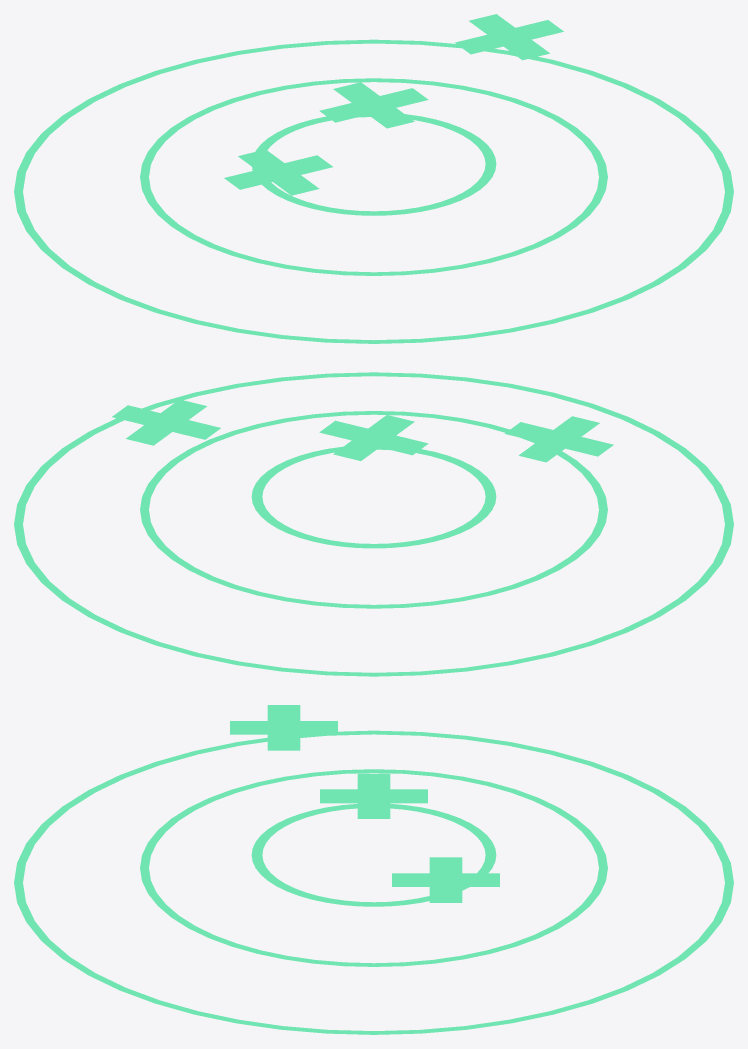
The model's file is healer.glb.
3 views of the same model, one above another, from view 1: azimuth 30°, elevation 25°; view 2: azimuth 150°, elevation 25°; view 3: azimuth 270°, elevation 25° (orthographic).
Parts seen in each view (by area): view 1: healer_ultimate; view 2: healer_ultimate; view 3: healer_ultimate.
Boxes of the visible parts, x1=… form: healer_ultimate: x1=14, y1=14, x2=733, y2=343; healer_ultimate: x1=14, y1=372, x2=733, y2=676; healer_ultimate: x1=14, y1=705, x2=733, y2=1034.
Size of the model in its own units: 2 by 0.265 by 2.
